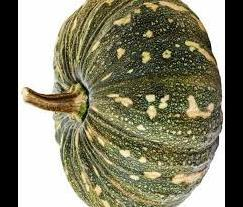turnip: (21, 0, 223, 206)
